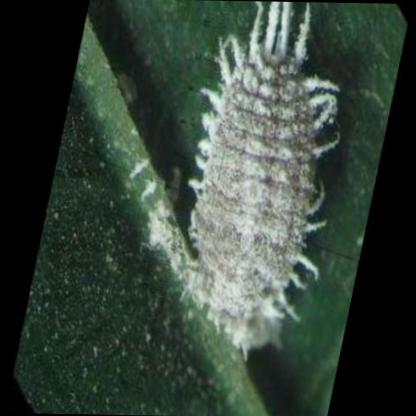mealy bug: (191, 4, 327, 341)
